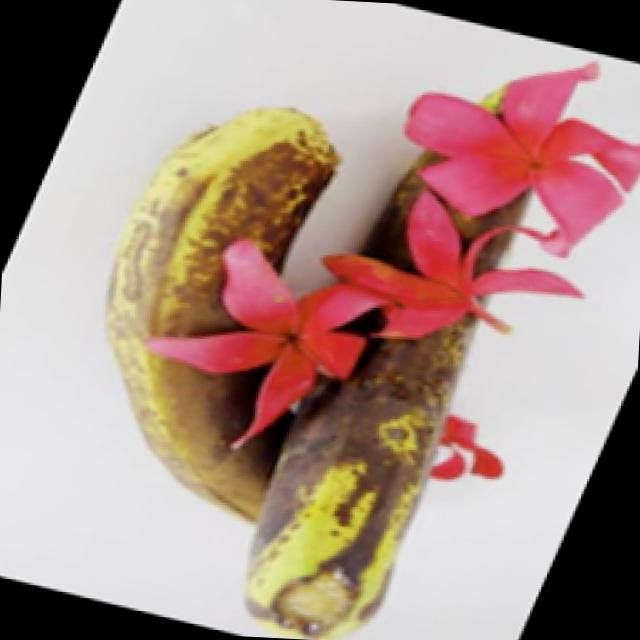Rotten_Banana: (73, 88, 350, 593)
